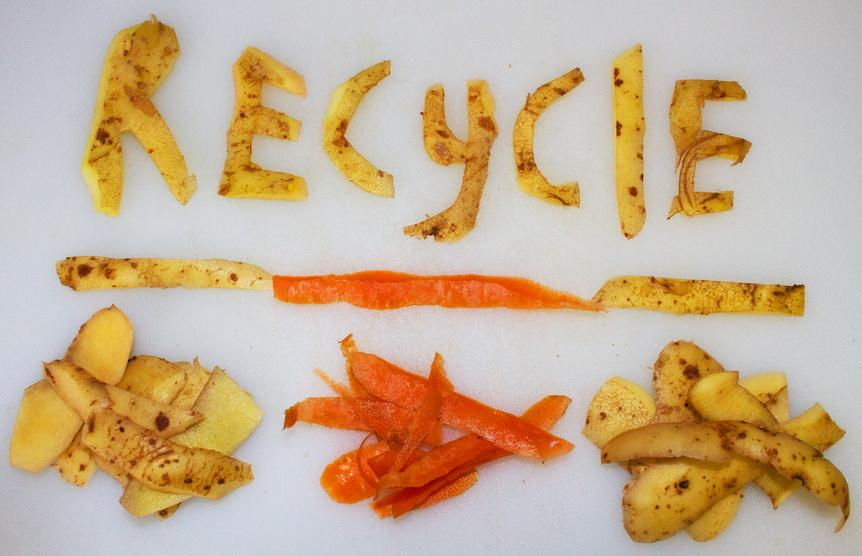organic: (9, 306, 261, 517), (284, 336, 572, 516), (82, 16, 195, 214), (77, 411, 252, 516), (108, 355, 261, 454), (404, 80, 497, 241), (273, 270, 592, 309), (513, 68, 583, 206), (323, 60, 394, 196), (594, 276, 804, 315), (623, 461, 725, 541), (56, 256, 271, 290), (668, 129, 750, 216), (10, 380, 81, 471), (613, 44, 645, 238), (688, 371, 777, 430), (67, 305, 132, 384), (583, 377, 655, 448), (233, 47, 306, 103), (423, 84, 466, 164), (218, 165, 307, 200), (467, 80, 497, 178), (321, 450, 376, 503), (516, 160, 579, 206), (674, 129, 750, 167), (687, 493, 740, 541), (244, 106, 300, 140), (668, 190, 732, 217), (739, 371, 786, 399)
